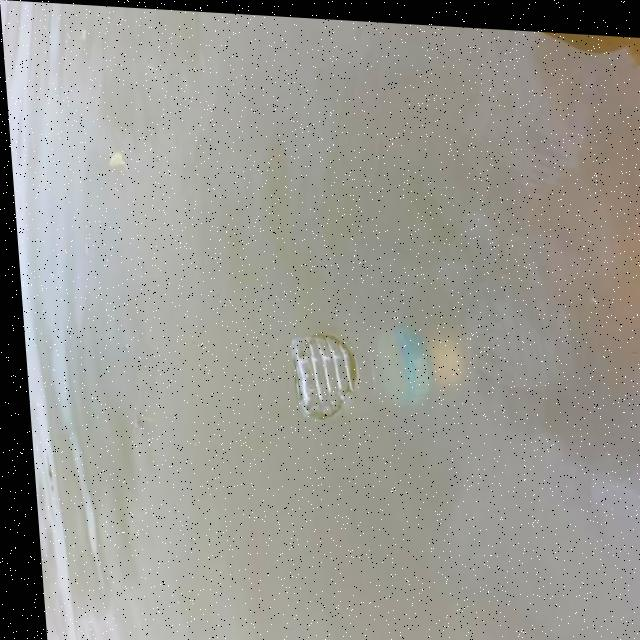waterbottle: (255, 306, 462, 438)
